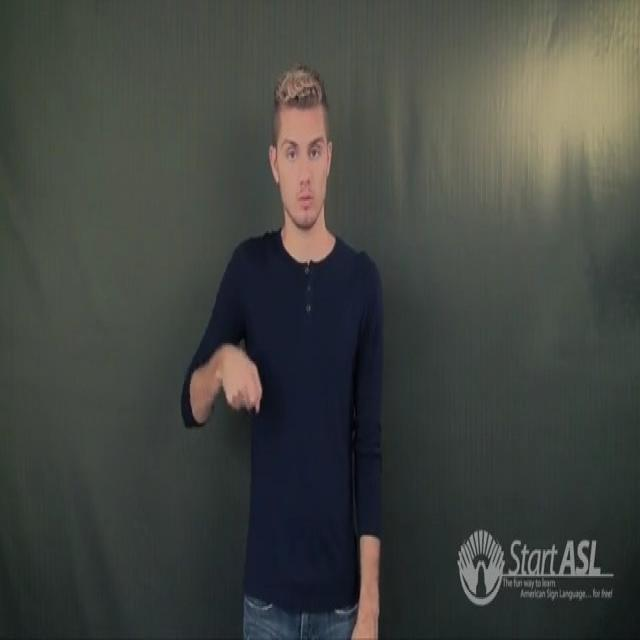bag: (195, 312, 268, 444)
